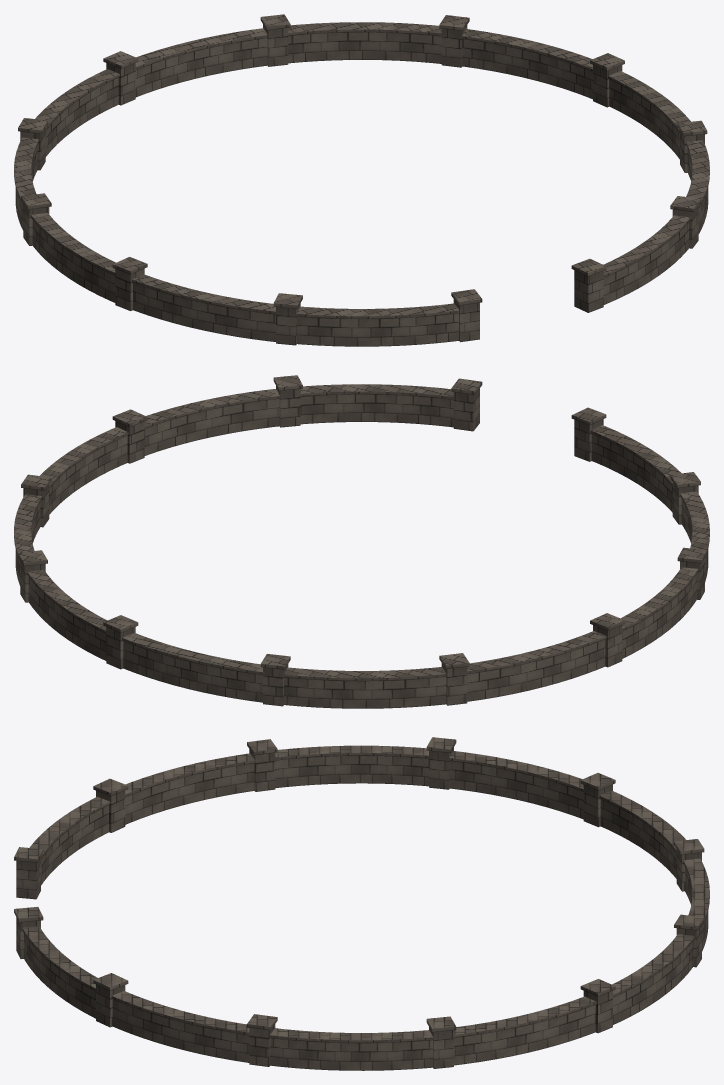
File: env_arena_wall_01.glb
3 views of the same model, one above another, from view 1: azimuth 30°, elevation 25°; view 2: azimuth 150°, elevation 25°; view 3: azimuth 270°, elevation 25° (orthographic).
Parts seen in each view (by area): view 1: env_arena_wall_01; view 2: env_arena_wall_01; view 3: env_arena_wall_01.
Boxes of the visible parts, x1,y1,x2,y2 form: env_arena_wall_01: [14, 14, 709, 346]; env_arena_wall_01: [14, 375, 709, 708]; env_arena_wall_01: [14, 737, 709, 1070].
Bounding box in the file's own units: 26.82 × 1.74 × 26.76.
Materials: 1 (1 with a texture image).
